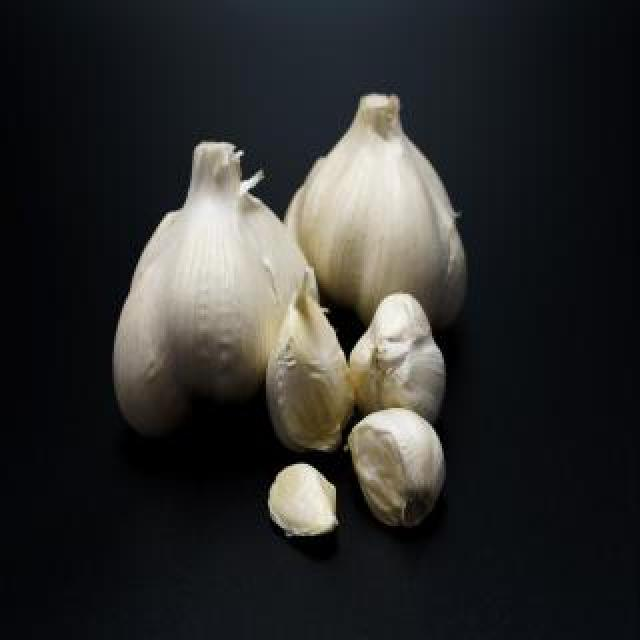Wet: (110, 138, 314, 441), (282, 88, 468, 327), (270, 286, 359, 449), (344, 404, 447, 529), (348, 298, 453, 418), (268, 460, 341, 543)
